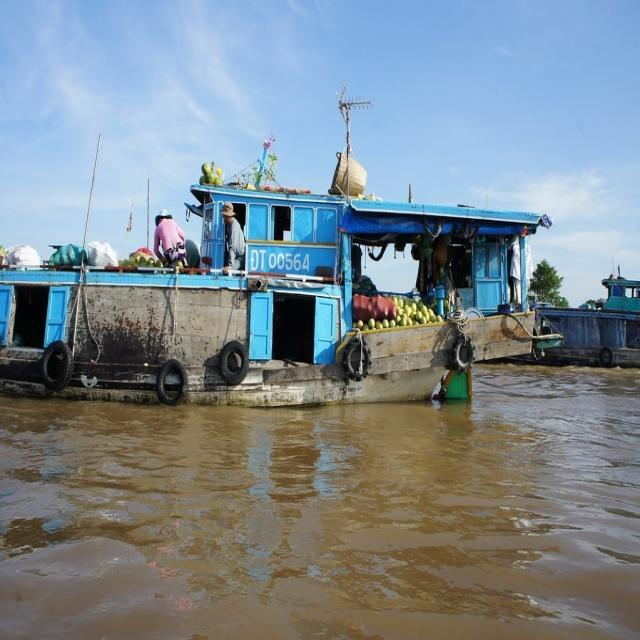boat: (15, 254, 482, 416)
